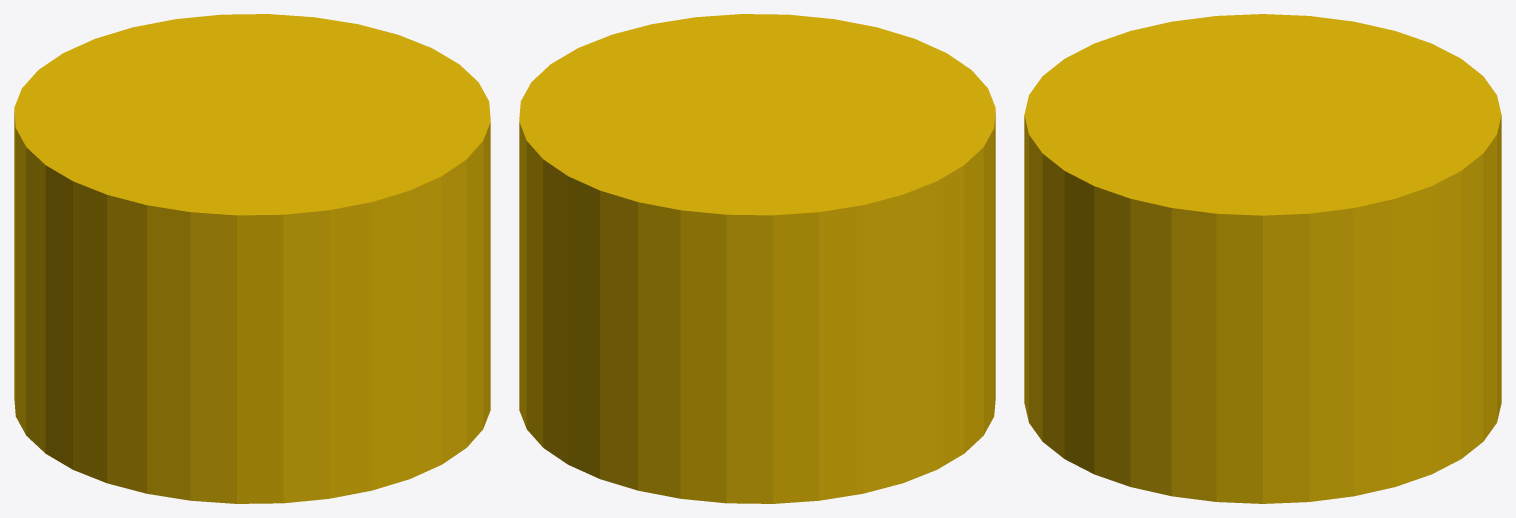
3 renders of one model, left to right at view 1: azimuth 30°, elevation 25°; view 2: azimuth 150°, elevation 25°; view 3: azimuth 270°, elevation 25°, orthographic.
Parts seen in each view (by area): view 1: tmp_export_Cylinder.060; view 2: tmp_export_Cylinder.060; view 3: tmp_export_Cylinder.060.
Part boxes in pixels (box(x1,y1,x2,y2)): tmp_export_Cylinder.060: box(14, 14, 490, 503); tmp_export_Cylinder.060: box(519, 14, 995, 503); tmp_export_Cylinder.060: box(1024, 14, 1501, 503).
Size of the model in its own units: 2 by 2 by 1.33.
